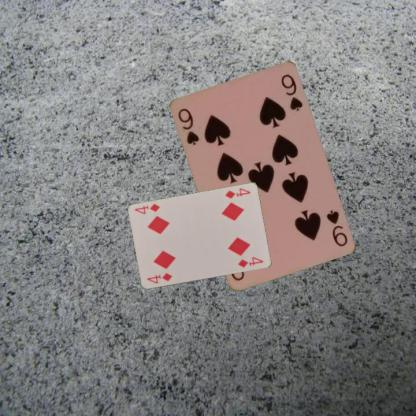4d: (222, 185, 252, 200), (144, 270, 173, 285)
9s: (323, 207, 350, 248), (176, 106, 201, 146)
